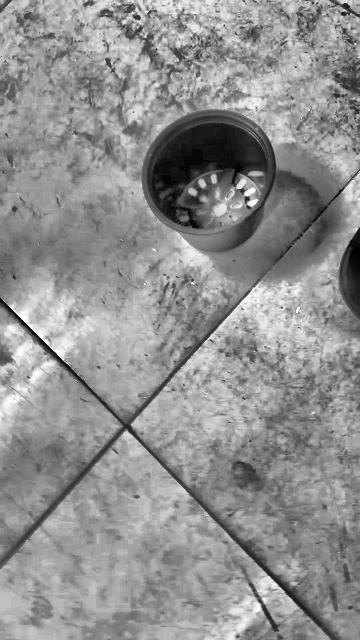pot: (142, 110, 275, 252), (340, 232, 359, 322)
